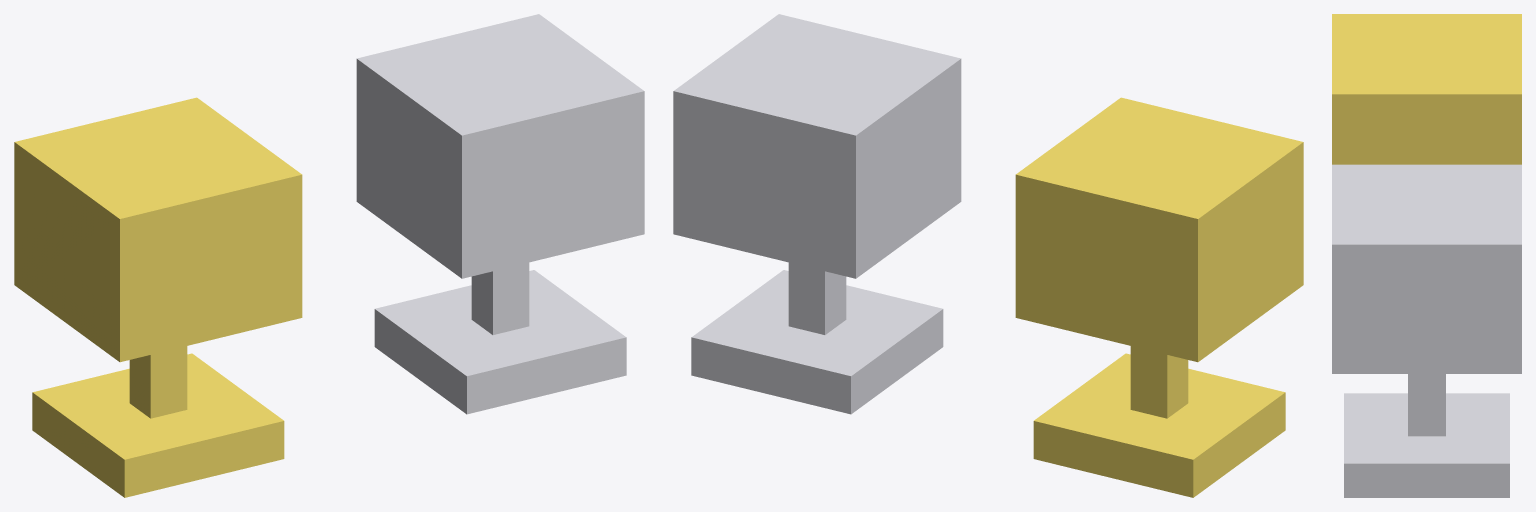
File: trophies.glb
3 renders of one model, left to right at view 1: azimuth 30°, elevation 25°; view 2: azimuth 150°, elevation 25°; view 3: azimuth 270°, elevation 25°, orthographic. The views are drawn at different scales.
Parts seen in each view (by area): view 1: mushroom-cup, flower-cup; view 2: mushroom-cup, flower-cup; view 3: flower-cup, mushroom-cup.
Boxes of the visible parts, left/top/right/bottom form: mushroom-cup: left=14, top=97, right=302, bottom=497; flower-cup: left=356, top=14, right=644, bottom=414; mushroom-cup: left=1015, top=97, right=1303, bottom=497; flower-cup: left=673, top=14, right=961, bottom=414; flower-cup: left=1332, top=164, right=1521, bottom=497; mushroom-cup: left=1332, top=14, right=1521, bottom=164.
Bounding box in the file's own units: 2.3 × 1.2 × 0.8.
